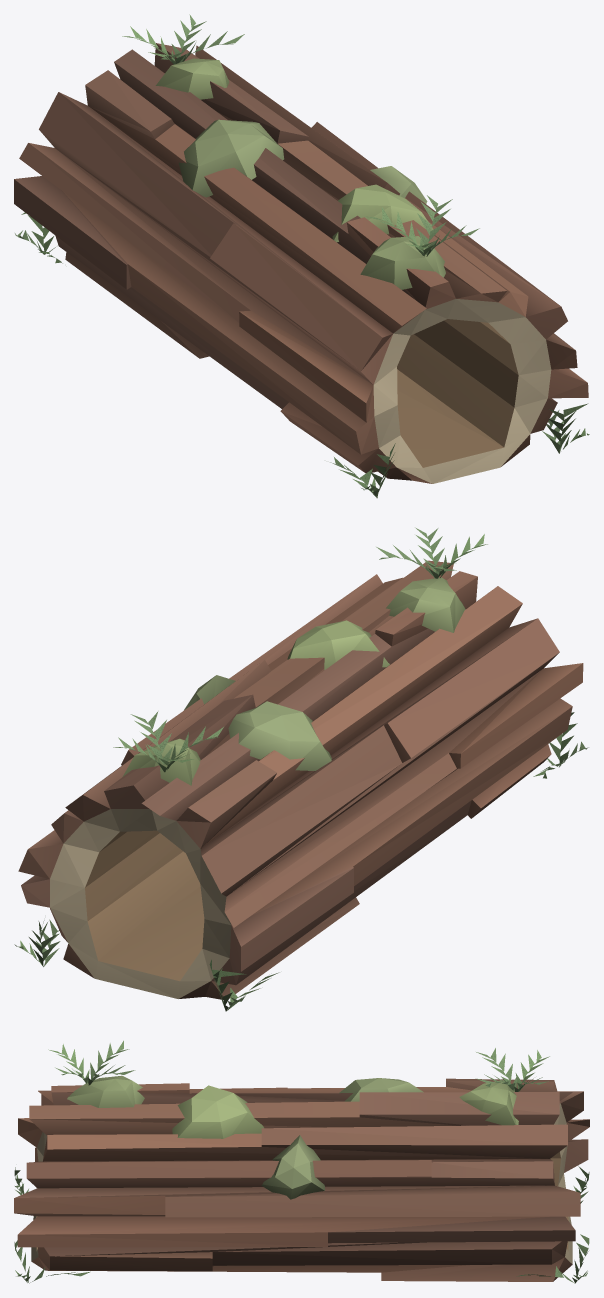
File: hollow.glb
3 renders of one model, top to bottom at view 1: azimuth 30°, elevation 25°; view 2: azimuth 150°, elevation 25°; view 3: azimuth 270°, elevation 25°, orthographic. The views are drawn at different scales.
Visible parts, largest first — view 1: hollow; view 2: hollow; view 3: hollow.
Boxes of the visible parts, box(x1,y1,x2,y2) form: hollow: box(14, 14, 589, 498); hollow: box(14, 527, 588, 1011); hollow: box(14, 1040, 589, 1283).
Size of the model in its own units: 2.4 by 2.32 by 6.4.
